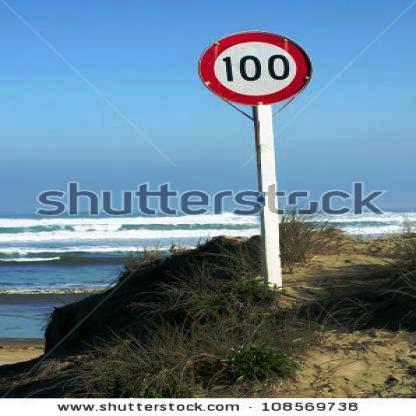Speed Limit -100-: (196, 31, 313, 106)
